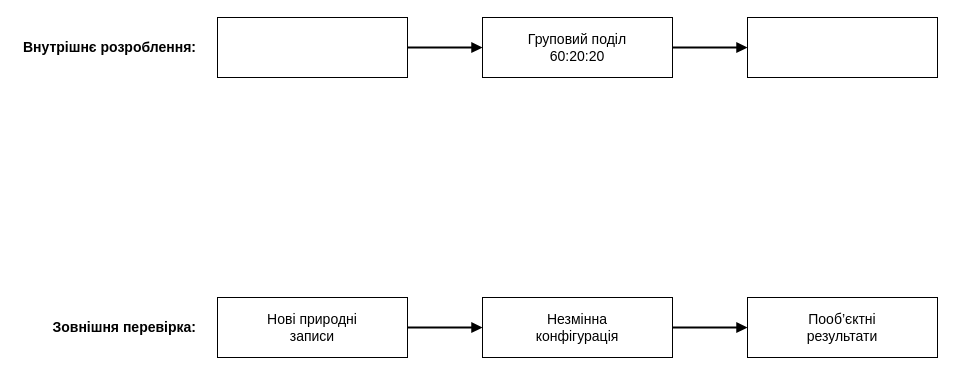
This 955x375 diagram has some shape labels left out. The centre of each missing label's shape, as x and y in pixels:
200 первинних груп: (312,47)
Фіксація моделей і порогів: (842,47)
